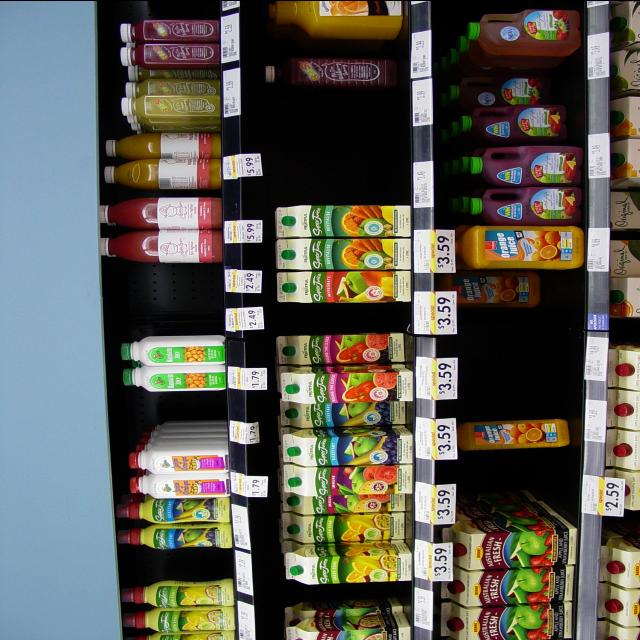empty_space: (272, 104, 403, 196), (479, 309, 573, 409), (122, 276, 218, 328), (478, 452, 570, 499), (125, 391, 219, 429), (128, 551, 216, 578), (283, 584, 405, 600)
